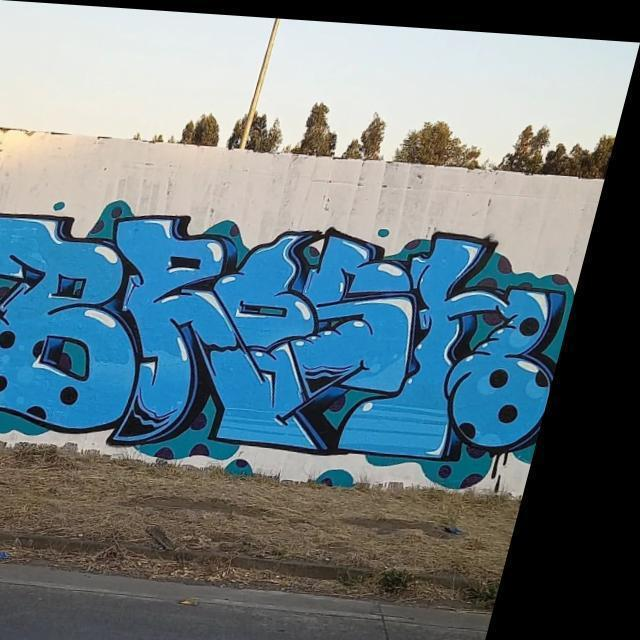nonspitting: (0, 197, 574, 492)
